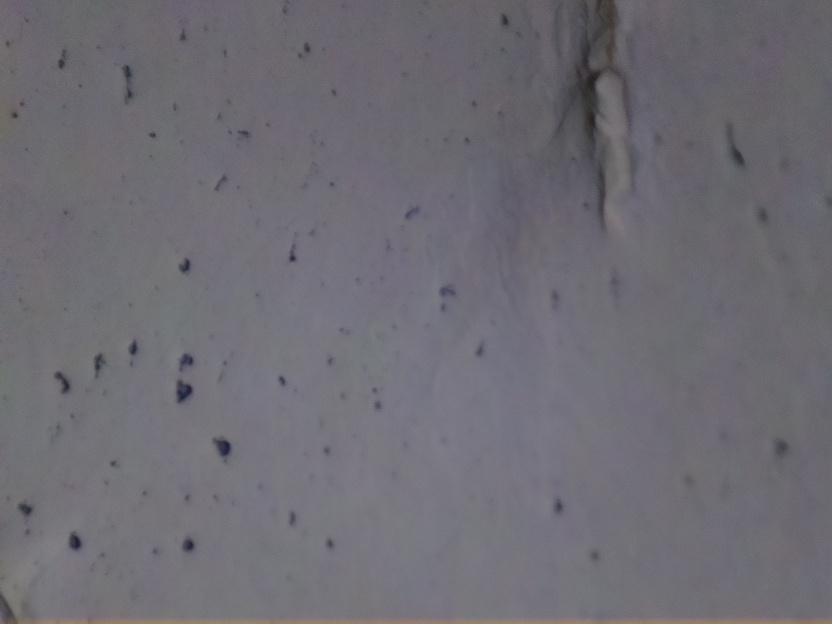crack: (560, 1, 632, 234)
